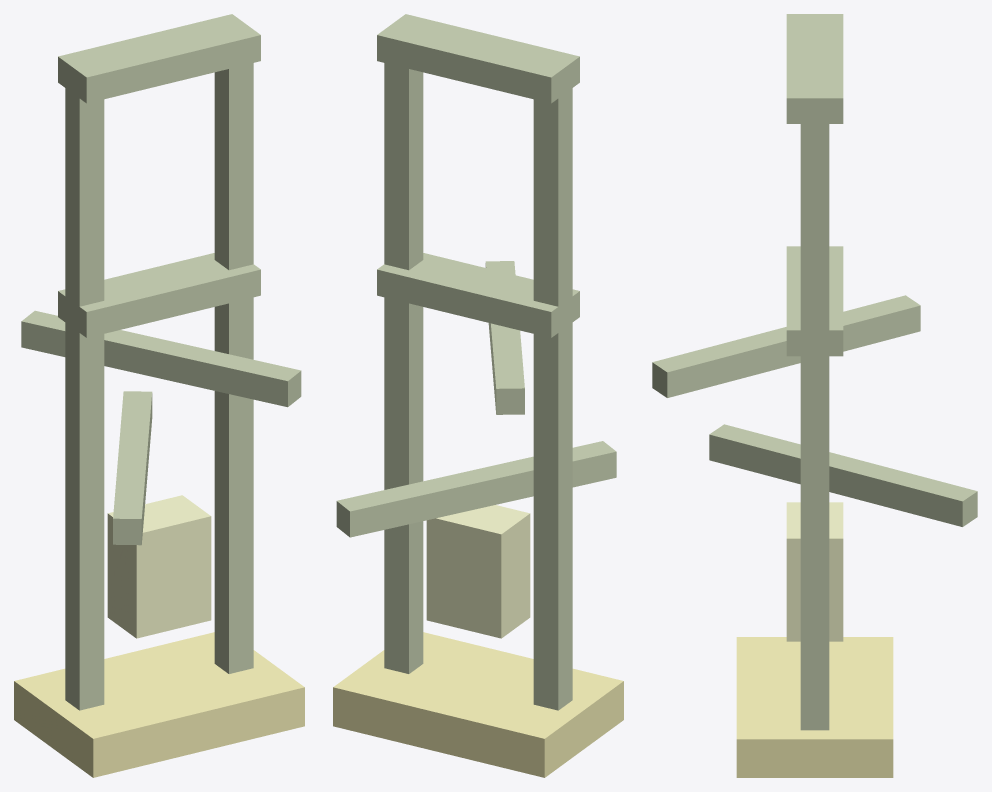
File: furniture_signal_pole_service_loop_guard.glb
3 renders of one model, left to right at view 1: azimuth 30°, elevation 25°; view 2: azimuth 150°, elevation 25°; view 3: azimuth 270°, elevation 25°, orthographic.
Visible parts, largest first — view 1: pad, left_post, right_post, terminal_box, top_guard, service_loop_left, mid_guard, service_loop_right; view 2: pad, left_post, right_post, terminal_box, top_guard, service_loop_right, mid_guard, service_loop_left; view 3: pad, right_post, service_loop_right, service_loop_left, top_guard, terminal_box, mid_guard.
Part boxes in pixels (x1,y1,x2,y2): pad: (14, 632, 304, 777); left_post: (65, 68, 104, 710); right_post: (214, 63, 253, 673); terminal_box: (107, 495, 211, 638); top_guard: (58, 14, 260, 103); service_loop_left: (21, 310, 301, 407); mid_guard: (58, 253, 260, 337); service_loop_right: (113, 391, 152, 545); pad: (333, 632, 623, 777); left_post: (533, 68, 572, 710); right_post: (384, 63, 423, 673); terminal_box: (426, 505, 530, 638); top_guard: (377, 14, 579, 103); service_loop_right: (336, 441, 616, 537); mid_guard: (377, 253, 579, 337); service_loop_left: (485, 261, 524, 414); pad: (736, 637, 893, 777); right_post: (800, 104, 829, 730); service_loop_right: (709, 424, 977, 526); service_loop_left: (652, 295, 920, 397); top_guard: (786, 14, 843, 123); terminal_box: (786, 502, 843, 641); mid_guard: (786, 246, 843, 356).
Size of the model in its own units: 0.34 by 1.04 by 0.4574.
